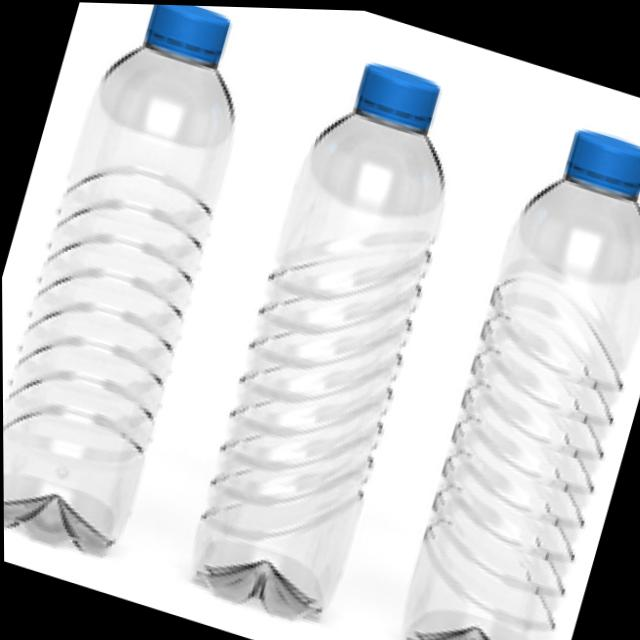plastic_water_bottles: (189, 62, 446, 620), (2, 4, 236, 557), (392, 125, 640, 640)
